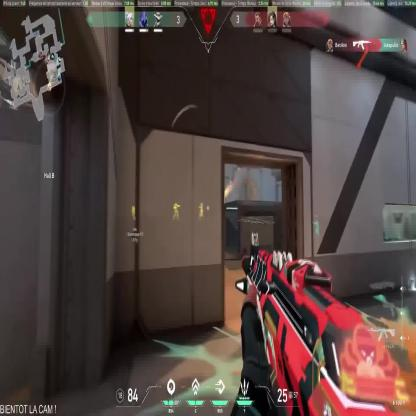enemy: (173, 199, 180, 222), (198, 201, 204, 222), (132, 204, 136, 222)
enemy_head: (200, 202, 204, 206), (132, 204, 134, 208), (176, 200, 178, 204)
